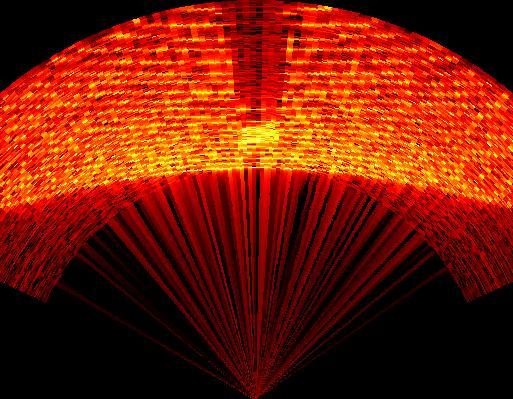box_crate: (225, 1, 295, 149)
